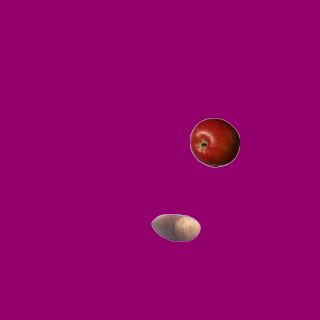Apple Braeburn: (189, 117, 239, 167)
Hazelnut: (150, 202, 200, 252)
